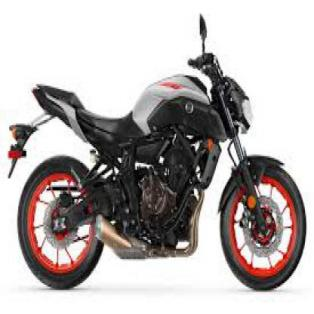Motocicleta: (6, 12, 309, 292)
